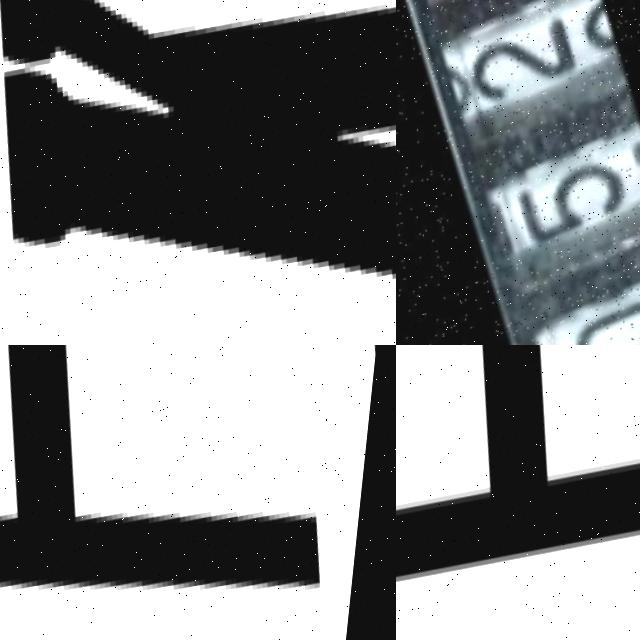0: (564, 290, 640, 345)
2: (454, 13, 590, 121)
5: (505, 149, 640, 259)
F: (396, 345, 640, 610)
H: (0, 345, 377, 640)
K: (0, 0, 396, 345)
